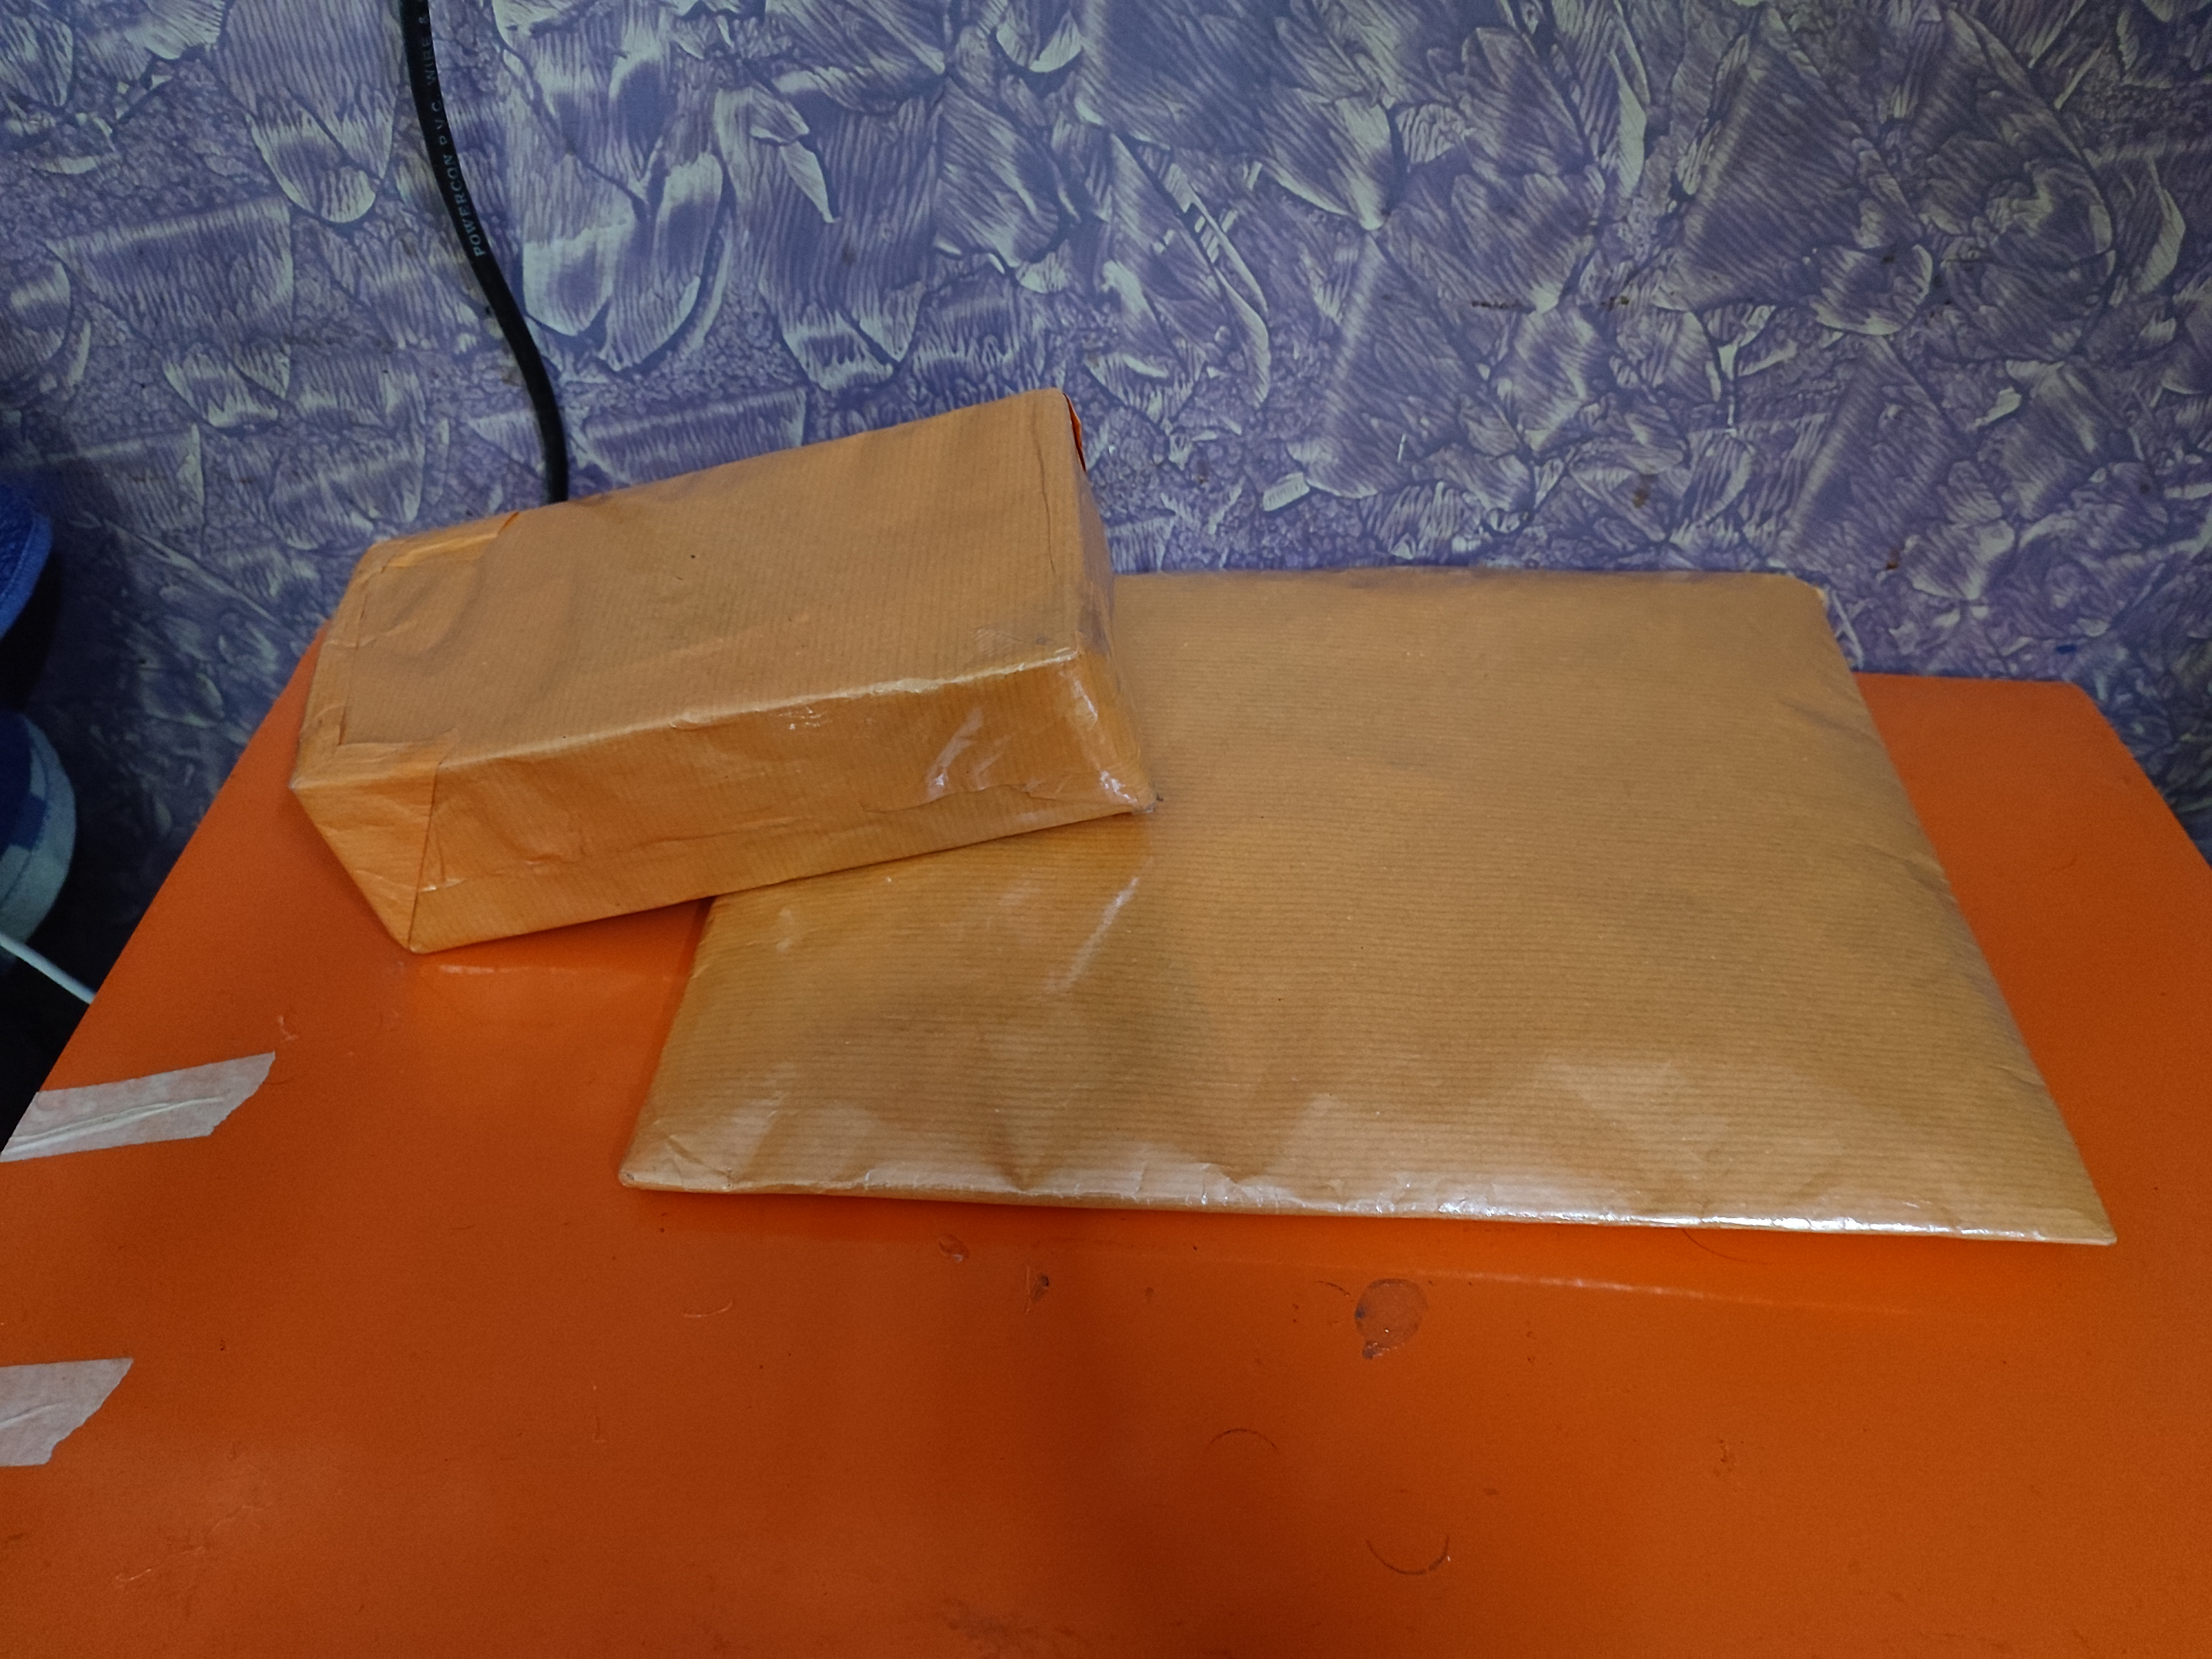Box: (603, 476, 2123, 1382), (232, 462, 1191, 920)
